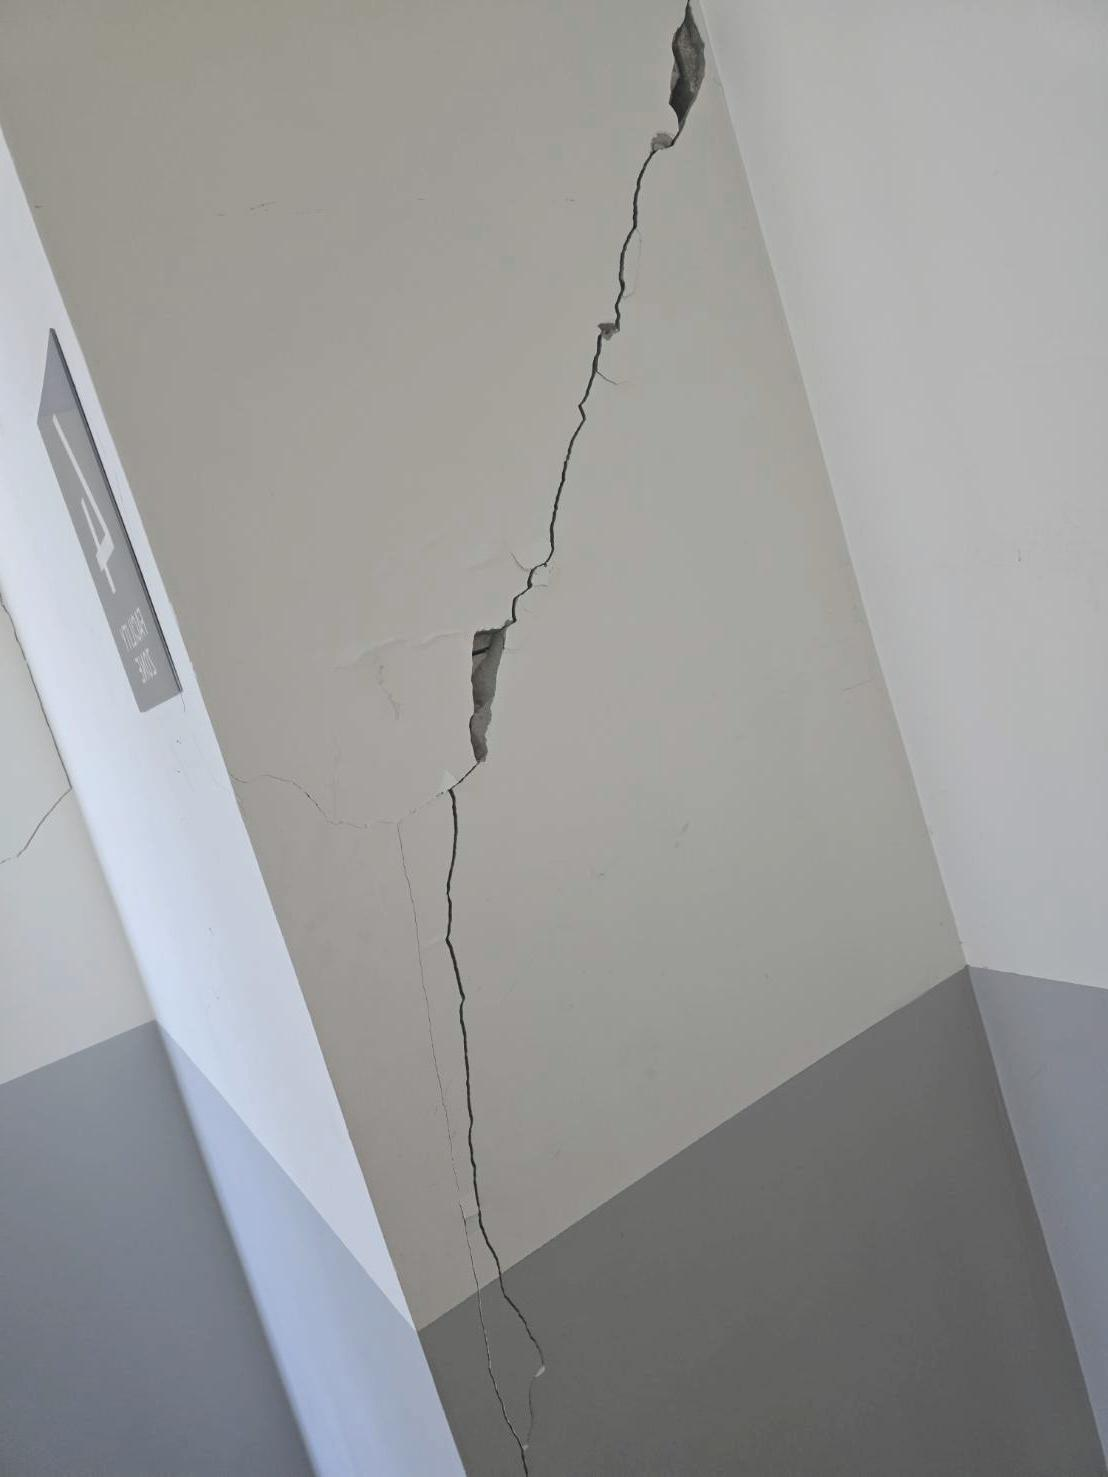High: (372, 3, 743, 1477)
